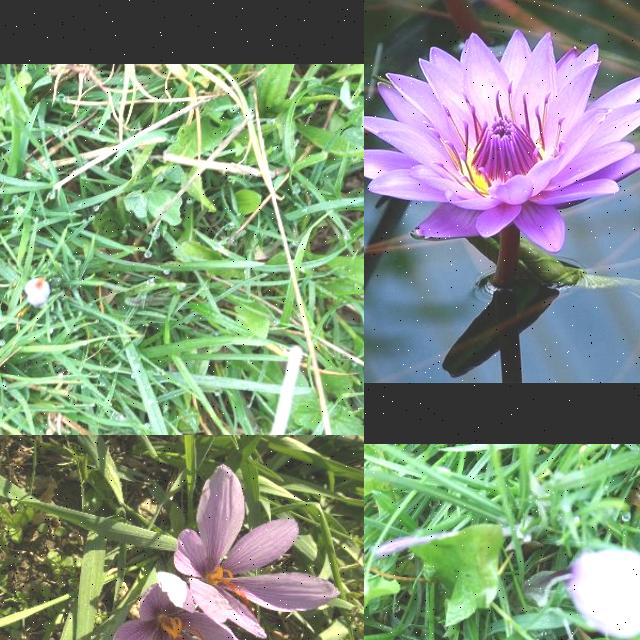flower: (172, 466, 340, 638), (106, 582, 243, 640), (568, 549, 640, 640), (25, 278, 51, 306)
